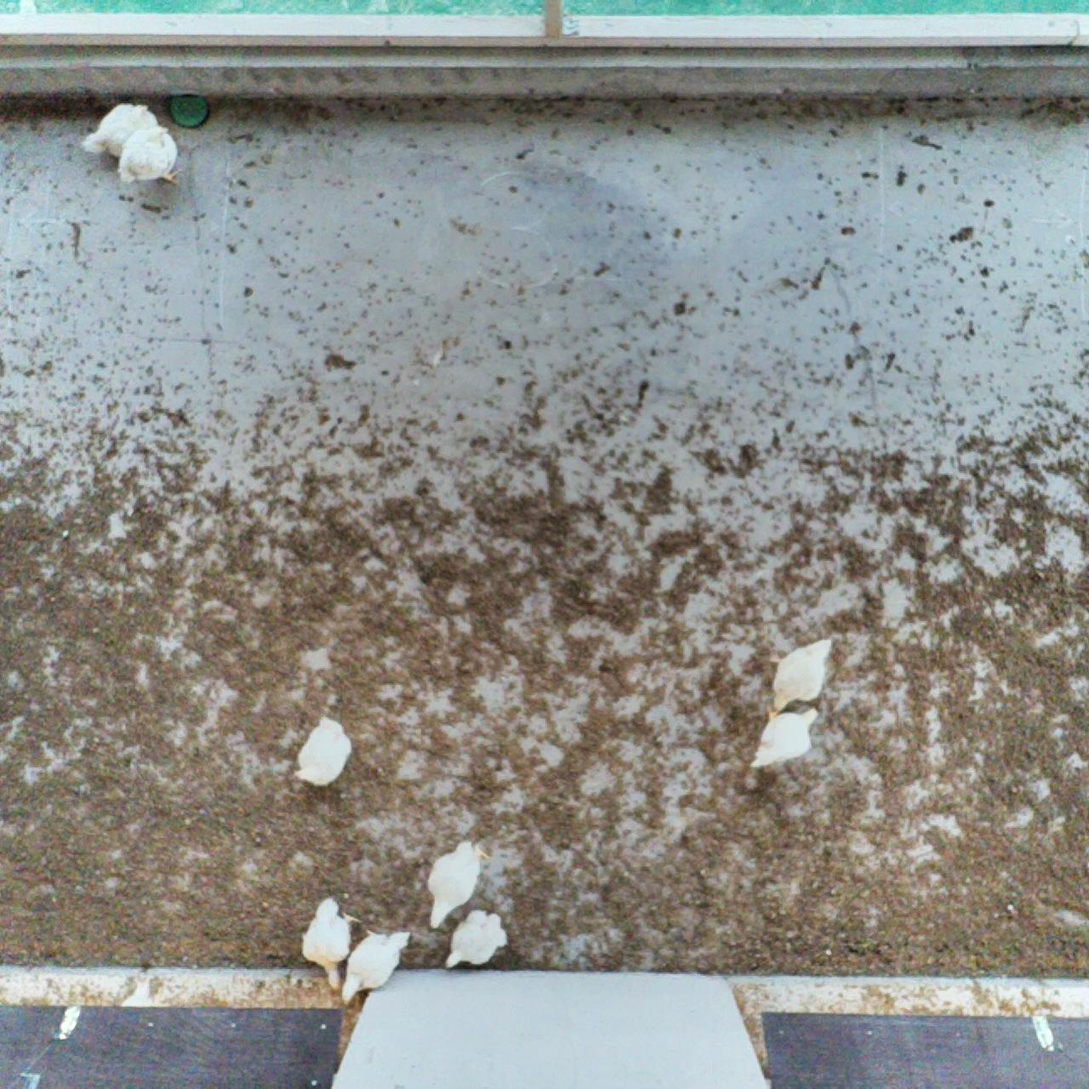chicken: (419, 837, 496, 935), (297, 894, 366, 995), (338, 923, 414, 1009), (766, 632, 838, 716), (79, 98, 164, 163), (288, 712, 355, 794), (111, 123, 189, 192), (747, 702, 824, 771), (439, 904, 513, 975)
